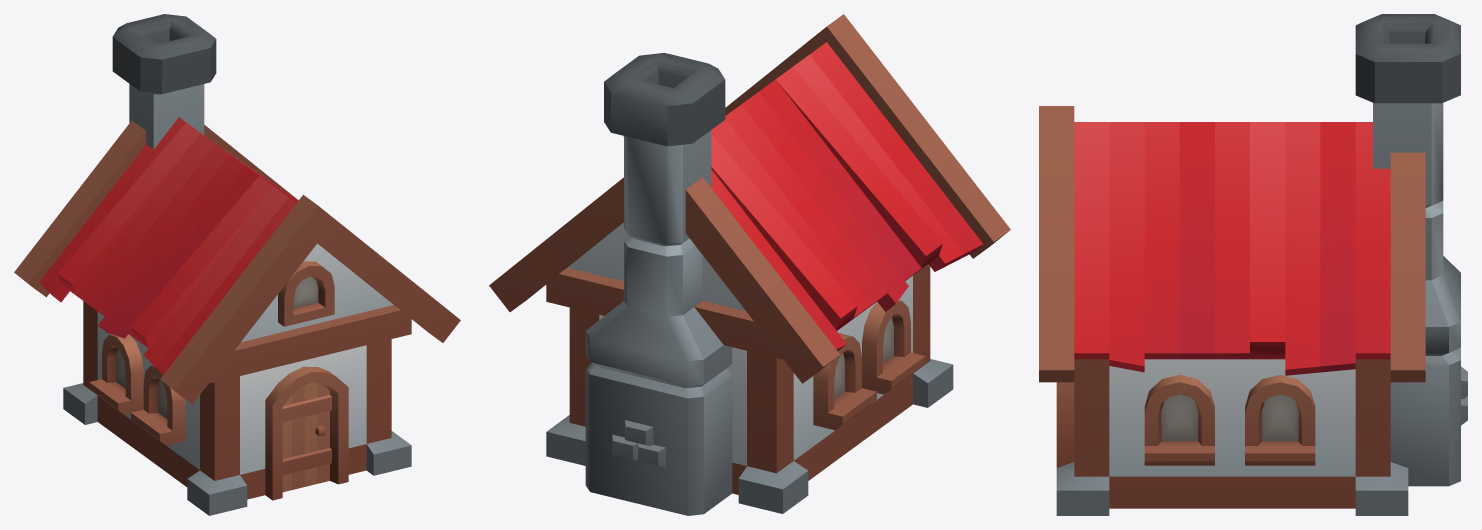
The model's file is building_home_A_red.gltf.
The picture shows the model from 3 angles, left to right: view 1: azimuth 30°, elevation 25°; view 2: azimuth 150°, elevation 25°; view 3: azimuth 270°, elevation 25°; orthographic projection. The views are drawn at different scales.
Parts seen in each view (by area): view 1: building_home_A_red; view 2: building_home_A_red; view 3: building_home_A_red.
Boxes of the visible parts, x1,y1,x2,y2 form: building_home_A_red: [14, 14, 460, 515]; building_home_A_red: [489, 14, 1010, 515]; building_home_A_red: [1039, 14, 1467, 515].
Bounding box in the file's own units: 0.7919 × 0.93 × 0.8537.
Materials: 1 (1 with a texture image).
